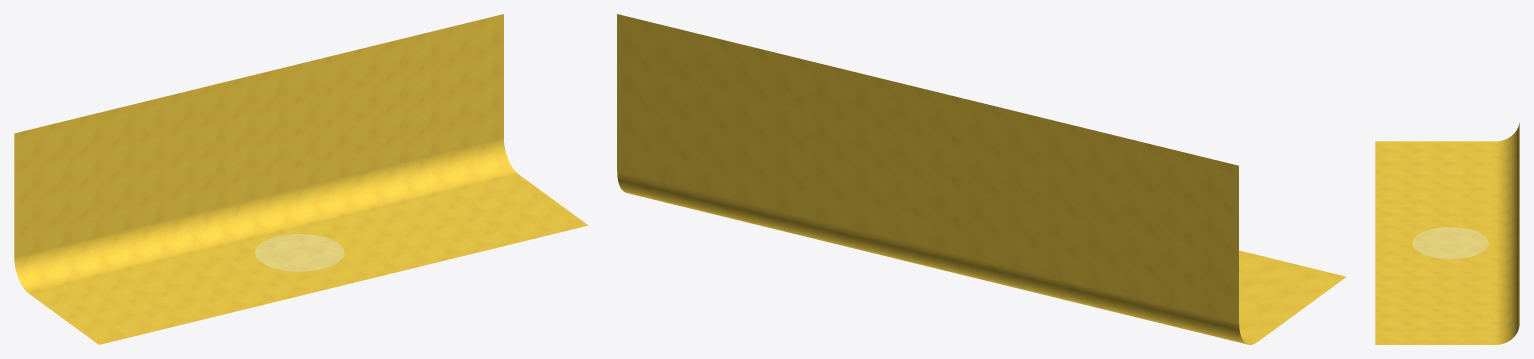
File: PROP_BG_STUDIO.glb
3 views of the same model, side by side, from view 1: azimuth 30°, elevation 25°; view 2: azimuth 150°, elevation 25°; view 3: azimuth 270°, elevation 25° (orthographic). The views are drawn at different scales.
Parts seen in each view (by area): view 1: PROP_BG_STUDIO_0, PROP_BG_STUDIO_1; view 2: PROP_BG_STUDIO_0; view 3: PROP_BG_STUDIO_0, PROP_BG_STUDIO_1.
Part boxes in pixels (x1=…): PROP_BG_STUDIO_0: x1=14, y1=14, x2=588, y2=344; PROP_BG_STUDIO_1: x1=255, y1=234, x2=344, y2=271; PROP_BG_STUDIO_0: x1=617, y1=14, x2=1346, y2=344; PROP_BG_STUDIO_0: x1=1375, y1=122, x2=1519, y2=344; PROP_BG_STUDIO_1: x1=1412, y1=227, x2=1488, y2=259.
Bounding box in the file's own units: 48 × 14 × 14.4.
2 materials, 2 textured.
